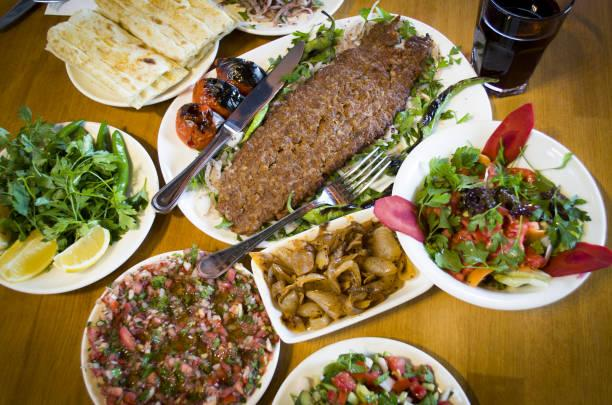Braised Crucian Carp: (157, 13, 494, 244), (389, 119, 604, 310), (81, 249, 274, 402), (2, 119, 160, 292), (245, 207, 430, 342)
